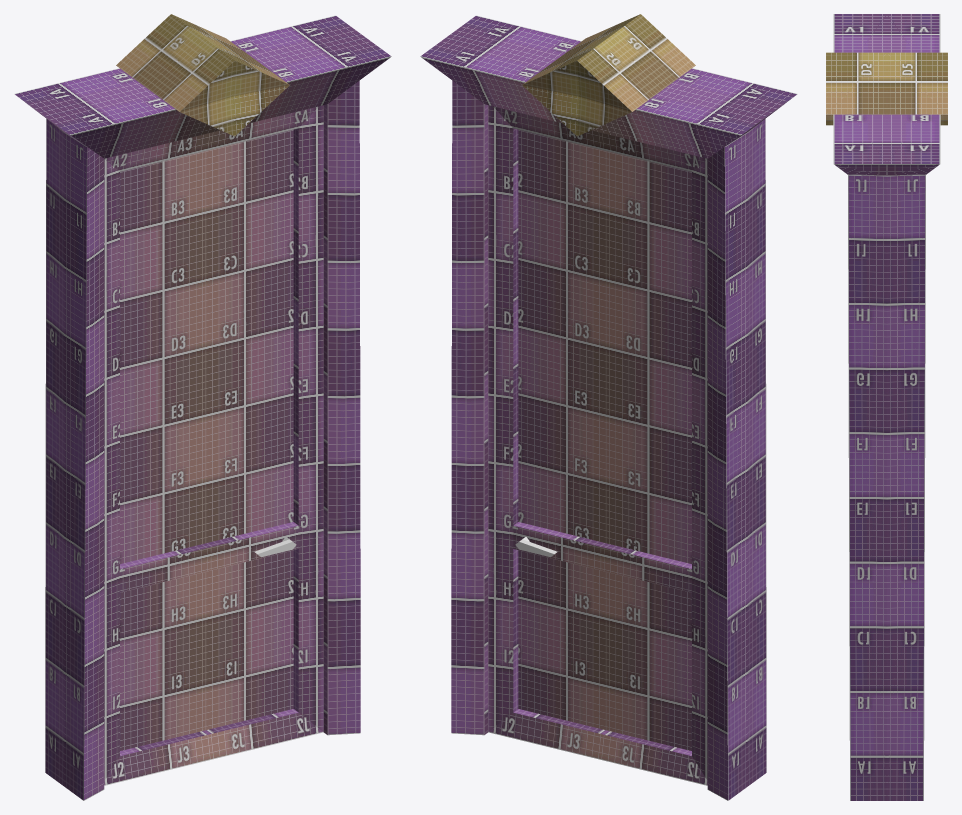
File: Paranominal_Door_NoOutline.fbx
The picture shows the model from 3 angles, left to right: view 1: azimuth 30°, elevation 25°; view 2: azimuth 150°, elevation 25°; view 3: azimuth 270°, elevation 25°; orthographic projection. The views are drawn at different scales.
Parts seen in each view (by area): view 1: Door, Doorframe, DoorOrnament; view 2: Door, Doorframe, DoorOrnament; view 3: Doorframe, DoorOrnament.
Boxes of the visible parts, x1=… form: Door: x1=104, y1=105, x2=323, y2=785; Doorframe: x1=14, y1=15, x2=391, y2=800; DoorOrnament: x1=116, y1=14, x2=289, y2=136; Door: x1=488, y1=105, x2=707, y2=785; Doorframe: x1=420, y1=15, x2=797, y2=800; DoorOrnament: x1=522, y1=14, x2=695, y2=136; Doorframe: x1=833, y1=14, x2=940, y2=800; DoorOrnament: x1=826, y1=52, x2=947, y2=125.
Bounding box in the file's own units: 1.44 × 3.06 × 0.4945.
